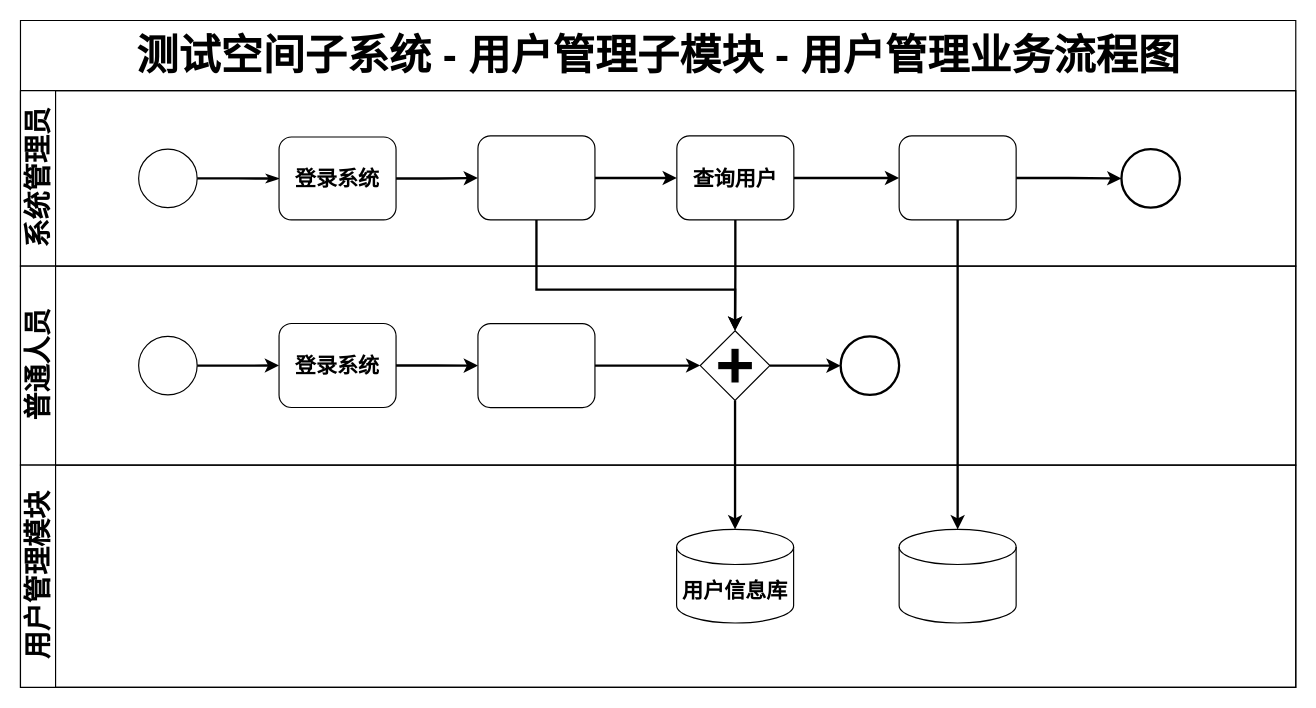
This 1316x708 diagram has some shape labels left out. The centre of each missing label's shape, as x and y in pixels:
"修改 个人信息" belongs at point 536,365.
"查看 用户列表" belongs at point 536,177.
"用户权限库" belongs at point 957,575.
"设置 用户权限" belongs at point 957,177.
